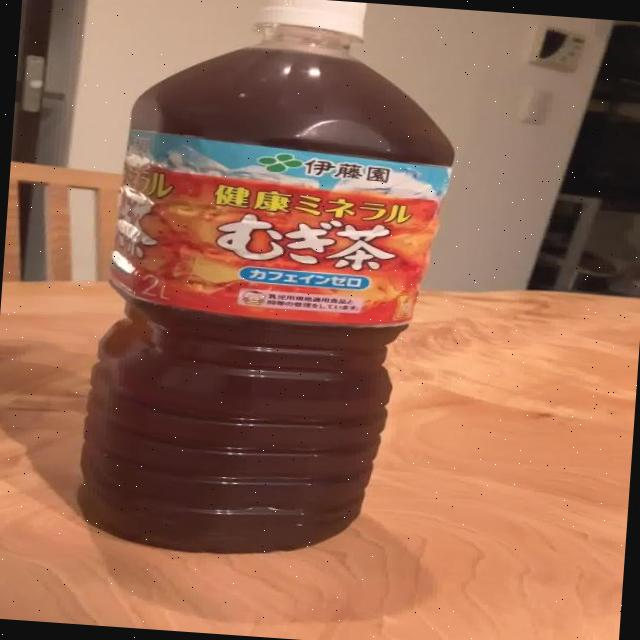bottle: (59, 0, 468, 571)
cap: (253, 0, 369, 47)
label: (100, 127, 478, 346)
